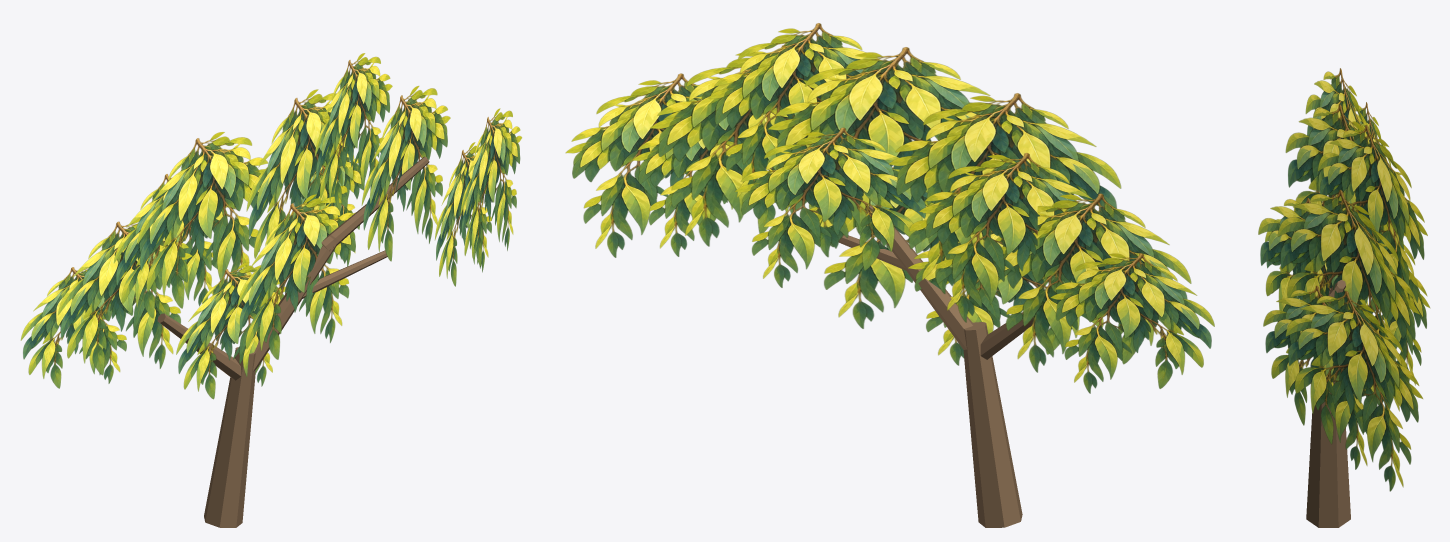
Rendered from TREE_COASTAL_WIND_001@2.0.0_LOD_CLOSE.glb.
3 views of the same model, side by side, from view 1: azimuth 30°, elevation 25°; view 2: azimuth 150°, elevation 25°; view 3: azimuth 270°, elevation 25° (orthographic). The views are drawn at different scales.
Parts seen in each view (by area): view 1: GG_TREE_COASTAL_WIND_001_CARD_01, GG_TREE_COASTAL_WIND_001_CARD_05, GG_TREE_COASTAL_WIND_001_CARD_00, GG_TREE_COASTAL_WIND_001_CARD_03, GG_TREE_COASTAL_WIND_001_CARD_02, GG_TREE_COASTAL_WIND_001_CARD_07, GG_TREE_COASTAL_WIND_001_CARD_09, GG_TREE_COASTAL_WIND_001_CARD_04, GG_TREE_COASTAL_WIND_001_LOCKED_STRUCTURE_00, GG_TREE_COASTAL_WIND_001_CARD_11, GG_TREE_COASTAL_WIND_001_CARD_06, GG_TREE_COASTAL_WIND_001_CARD_08 (+5 smaller); view 2: GG_TREE_COASTAL_WIND_001_CARD_10, GG_TREE_COASTAL_WIND_001_CARD_01, GG_TREE_COASTAL_WIND_001_CARD_02, GG_TREE_COASTAL_WIND_001_CARD_06, GG_TREE_COASTAL_WIND_001_CARD_11, GG_TREE_COASTAL_WIND_001_CARD_00, GG_TREE_COASTAL_WIND_001_CARD_07, GG_TREE_COASTAL_WIND_001_CARD_04, GG_TREE_COASTAL_WIND_001_CARD_03, GG_TREE_COASTAL_WIND_001_LOCKED_STRUCTURE_00, GG_TREE_COASTAL_WIND_001_CARD_05, GG_TREE_COASTAL_WIND_001_CARD_08 (+3 smaller); view 3: GG_TREE_COASTAL_WIND_001_CARD_04, GG_TREE_COASTAL_WIND_001_CARD_03, GG_TREE_COASTAL_WIND_001_CARD_07, GG_TREE_COASTAL_WIND_001_CARD_08, GG_TREE_COASTAL_WIND_001_LOCKED_STRUCTURE_00, GG_TREE_COASTAL_WIND_001_CARD_02, GG_TREE_COASTAL_WIND_001_CARD_05, GG_TREE_COASTAL_WIND_001_CARD_01, GG_TREE_COASTAL_WIND_001_CARD_10, GG_TREE_COASTAL_WIND_001_CARD_06, GG_TREE_COASTAL_WIND_001_CARD_09.
Boxes of the visible parts, <box> form: GG_TREE_COASTAL_WIND_001_CARD_01: <box>137,132,267,308</box>; GG_TREE_COASTAL_WIND_001_CARD_05: <box>237,194,355,359</box>; GG_TREE_COASTAL_WIND_001_CARD_00: <box>58,218,192,375</box>; GG_TREE_COASTAL_WIND_001_CARD_03: <box>361,86,450,261</box>; GG_TREE_COASTAL_WIND_001_CARD_02: <box>246,89,353,258</box>; GG_TREE_COASTAL_WIND_001_CARD_07: <box>314,53,392,211</box>; GG_TREE_COASTAL_WIND_001_CARD_09: <box>176,262,285,399</box>; GG_TREE_COASTAL_WIND_001_CARD_04: <box>460,108,521,266</box>; GG_TREE_COASTAL_WIND_001_LOCKED_STRUCTURE_00: <box>204,347,255,527</box>; GG_TREE_COASTAL_WIND_001_CARD_11: <box>20,267,133,388</box>; GG_TREE_COASTAL_WIND_001_CARD_06: <box>114,174,227,318</box>; GG_TREE_COASTAL_WIND_001_CARD_08: <box>435,142,491,286</box>; GG_TREE_COASTAL_WIND_001_CARD_10: <box>735,127,928,287</box>; GG_TREE_COASTAL_WIND_001_CARD_01: <box>888,93,1121,293</box>; GG_TREE_COASTAL_WIND_001_CARD_02: <box>768,47,990,257</box>; GG_TREE_COASTAL_WIND_001_CARD_06: <box>919,153,1098,322</box>; GG_TREE_COASTAL_WIND_001_CARD_11: <box>1050,253,1214,393</box>; GG_TREE_COASTAL_WIND_001_CARD_00: <box>995,193,1191,372</box>; GG_TREE_COASTAL_WIND_001_CARD_07: <box>708,23,880,197</box>; GG_TREE_COASTAL_WIND_001_CARD_04: <box>565,73,767,257</box>; GG_TREE_COASTAL_WIND_001_CARD_03: <box>650,45,815,246</box>; GG_TREE_COASTAL_WIND_001_LOCKED_STRUCTURE_00: <box>963,322,1022,527</box>; GG_TREE_COASTAL_WIND_001_CARD_05: <box>809,167,984,328</box>; GG_TREE_COASTAL_WIND_001_CARD_08: <box>632,98,788,256</box>; GG_TREE_COASTAL_WIND_001_CARD_04: <box>1285,290,1422,491</box>; GG_TREE_COASTAL_WIND_001_CARD_03: <box>1277,189,1419,411</box>; GG_TREE_COASTAL_WIND_001_CARD_07: <box>1318,125,1427,302</box>; GG_TREE_COASTAL_WIND_001_CARD_08: <box>1263,285,1380,469</box>; GG_TREE_COASTAL_WIND_001_LOCKED_STRUCTURE_00: <box>1306,376,1350,527</box>; GG_TREE_COASTAL_WIND_001_CARD_02: <box>1285,104,1405,329</box>; GG_TREE_COASTAL_WIND_001_CARD_05: <box>1258,197,1366,391</box>; GG_TREE_COASTAL_WIND_001_CARD_01: <box>1305,68,1372,303</box>; GG_TREE_COASTAL_WIND_001_CARD_10: <box>1359,232,1430,385</box>; GG_TREE_COASTAL_WIND_001_CARD_06: <box>1354,102,1390,166</box>; GG_TREE_COASTAL_WIND_001_CARD_09: <box>1265,216,1333,386</box>.
Size of the model in its own units: 56.24 by 41.26 by 14.31.
Materials: 2 (1 with a texture image).
